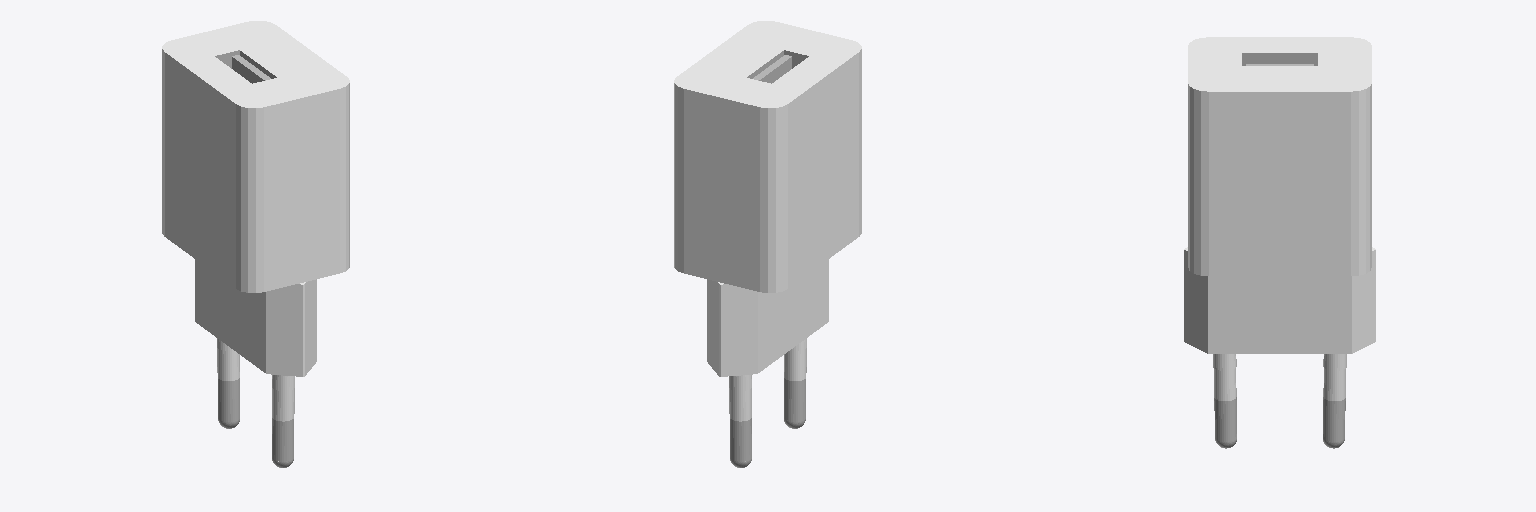
File: charger.obj
3 renders of one model, left to right at view 1: azimuth 30°, elevation 25°; view 2: azimuth 150°, elevation 25°; view 3: azimuth 270°, elevation 25°, orthographic.
Parts seen in each view (by area): view 1: obj1, obj2, obj4; view 2: obj1, obj2, obj4; view 3: obj1, obj2, obj3.
Part boxes in pixels (x1,y1,x2,y2): obj1: (162, 21, 349, 421); obj2: (218, 378, 293, 467); obj4: (232, 55, 270, 83); obj1: (674, 21, 861, 421); obj2: (730, 378, 805, 467); obj4: (753, 55, 791, 83); obj1: (1184, 37, 1375, 400); obj2: (1214, 397, 1345, 448); obj3: (1242, 53, 1317, 65).
Bounding box in the file's own units: 126 × 414 × 188.